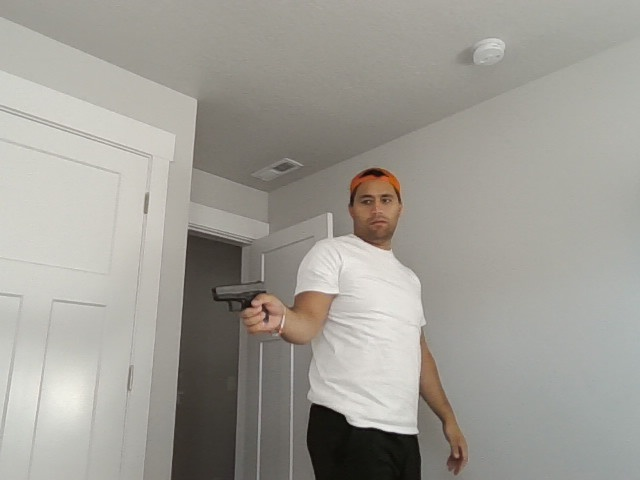handgun: (210, 280, 270, 323)
